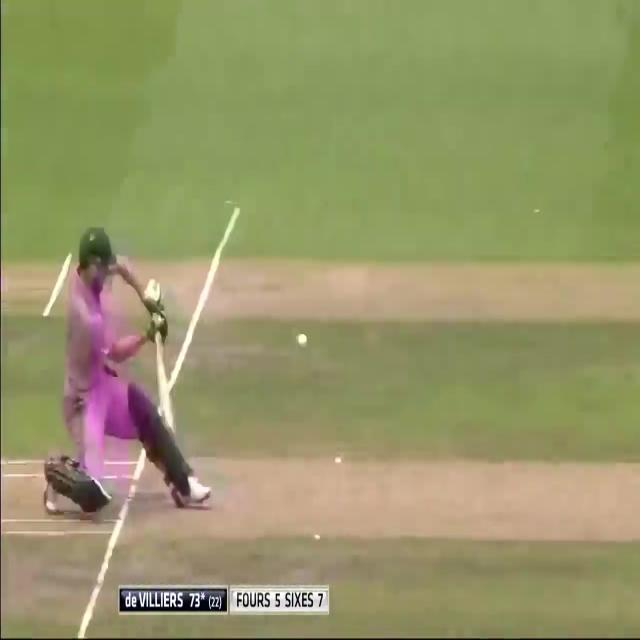Ball: (26, 222, 222, 518)
